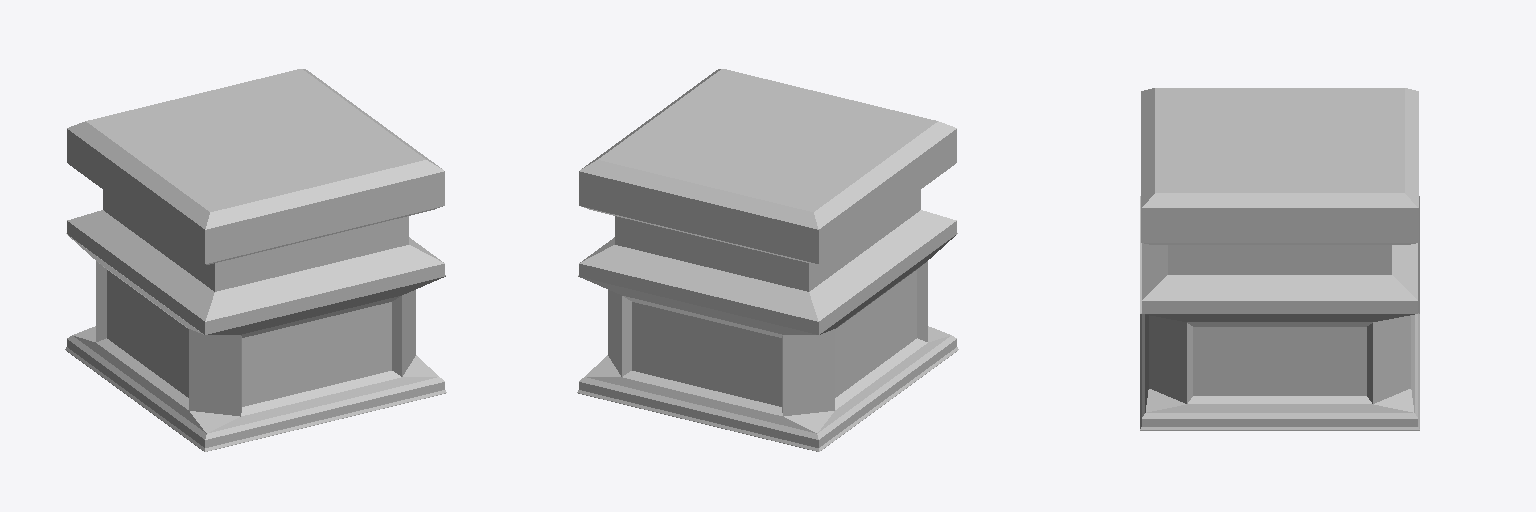
Rendered from block.obj.
The picture shows the model from 3 angles: view 1: azimuth 30°, elevation 25°; view 2: azimuth 150°, elevation 25°; view 3: azimuth 270°, elevation 25°; orthographic projection.
Visible parts, largest first — view 1: Cube; view 2: Cube; view 3: Cube.
Part boxes in pixels (left/top/right/bottom): Cube: left=65, top=69, right=446, bottom=451; Cube: left=577, top=69, right=958, bottom=451; Cube: left=1140, top=88, right=1419, bottom=430.
Bounding box in the file's own units: 4.4 × 4 × 4.4.